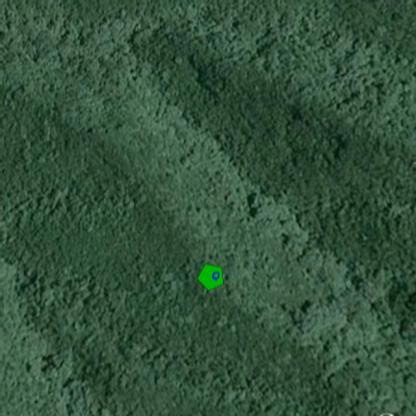Q: (211, 269, 222, 283)
pentagon: (196, 262, 226, 292)
